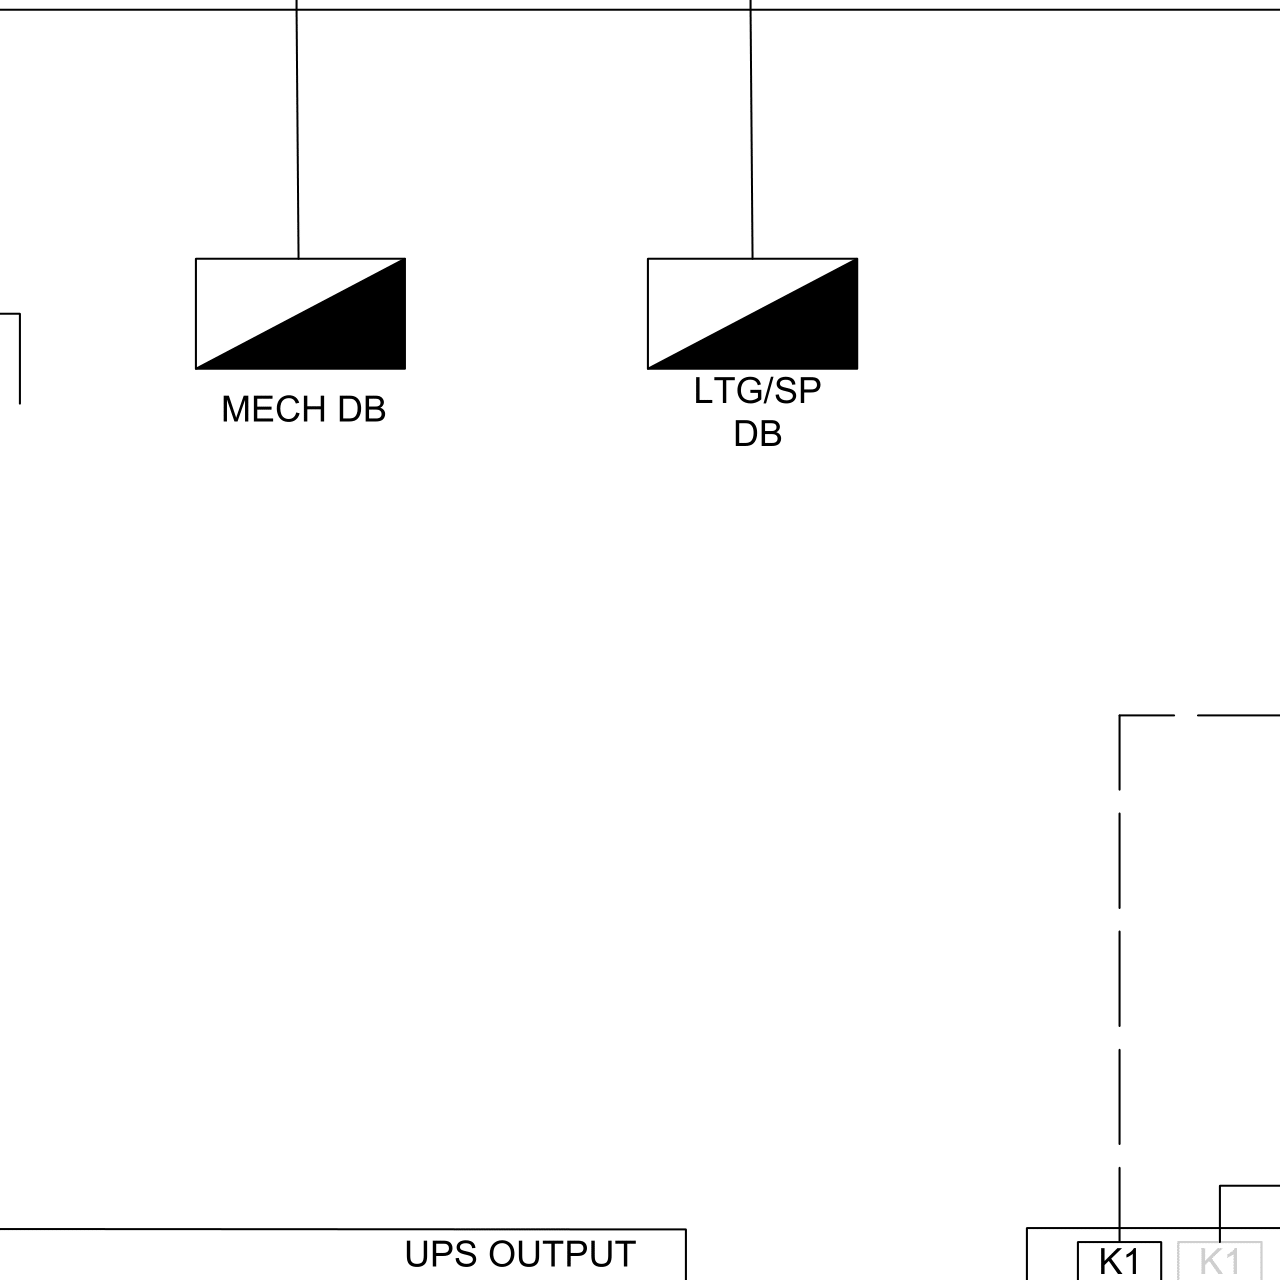Distribution Board: (181, 250, 427, 386), (635, 250, 877, 374)
